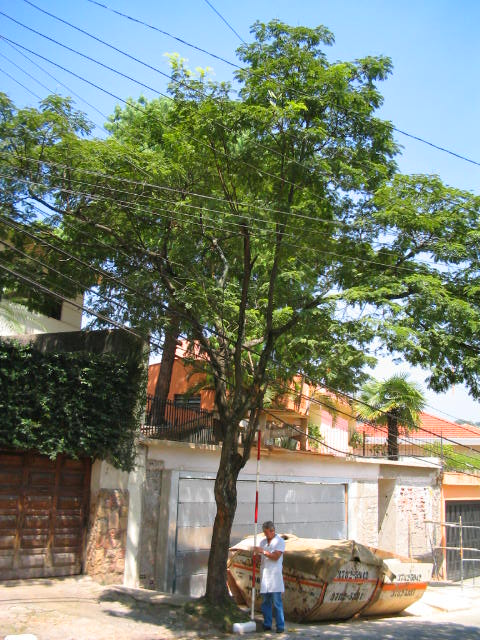crown: (7, 20, 478, 429)
stem: (197, 459, 244, 606)
stick: (245, 428, 265, 618)
tree: (4, 18, 478, 607)
